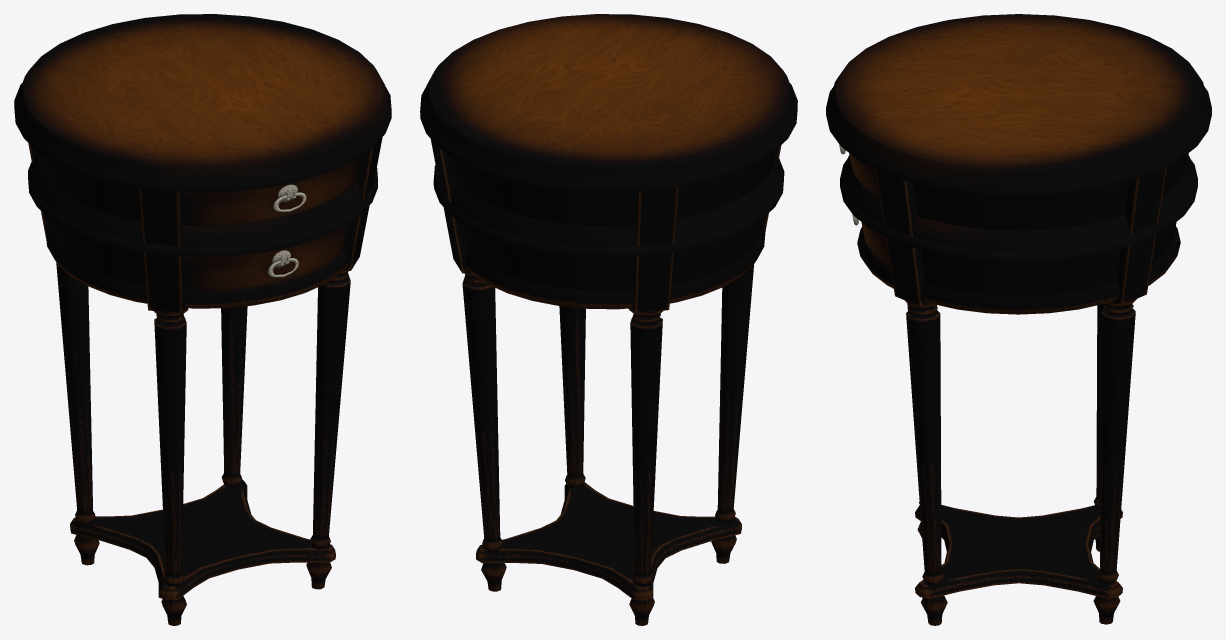
Rendered from table2.glb.
3 renders of one model, left to right at view 1: azimuth 30°, elevation 25°; view 2: azimuth 150°, elevation 25°; view 3: azimuth 270°, elevation 25°, orthographic. The views are drawn at different scales.
Visible parts, largest first — view 1: endtable1 top _low.003_endtable1_0; view 2: endtable1 top _low.003_endtable1_0; view 3: endtable1 top _low.003_endtable1_0.
Boxes of the visible parts, <box> form: endtable1 top _low.003_endtable1_0: <box>14,14,391,625</box>; endtable1 top _low.003_endtable1_0: <box>420,14,797,625</box>; endtable1 top _low.003_endtable1_0: <box>826,14,1211,625</box>.
Bounding box in the file's own units: 0.562 × 0.7984 × 0.562.
1 material, 1 textured.
